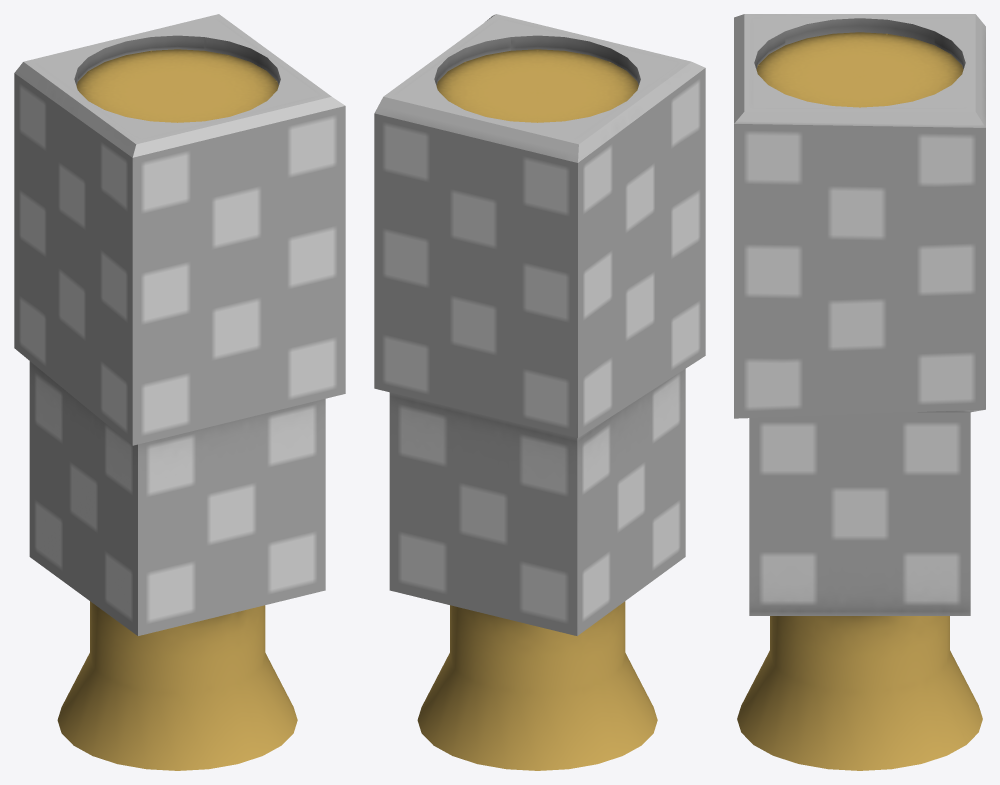
File: ATS Artist Antenna.fbx
3 renders of one model, left to right at view 1: azimuth 30°, elevation 25°; view 2: azimuth 150°, elevation 25°; view 3: azimuth 270°, elevation 25°, orthographic. The views are drawn at different scales.
Visible parts, largest first — view 1: Cube.026, ATS-Artist Antenna; view 2: Cube.026, ATS-Artist Antenna; view 3: Cube.026, ATS-Artist Antenna.
Part boxes in pixels (bbox=[...]): Cube.026: bbox=[14, 14, 345, 635]; ATS-Artist Antenna: bbox=[57, 49, 297, 770]; Cube.026: bbox=[374, 14, 705, 635]; ATS-Artist Antenna: bbox=[417, 49, 657, 770]; Cube.026: bbox=[734, 14, 985, 615]; ATS-Artist Antenna: bbox=[737, 32, 982, 770].
Bounding box in the file's own units: 14.43 × 41.52 × 14.43.
Materials: 1 (1 with a texture image).
